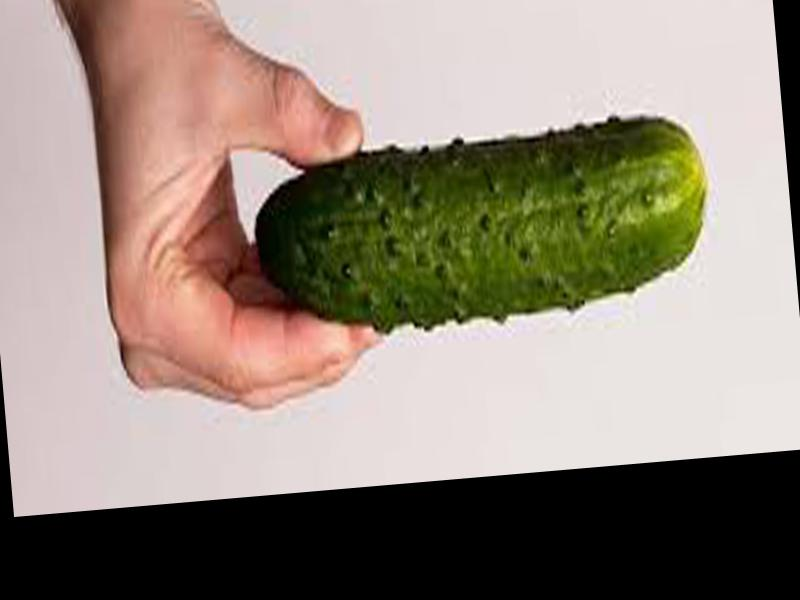Cucumber: (248, 126, 713, 340)
